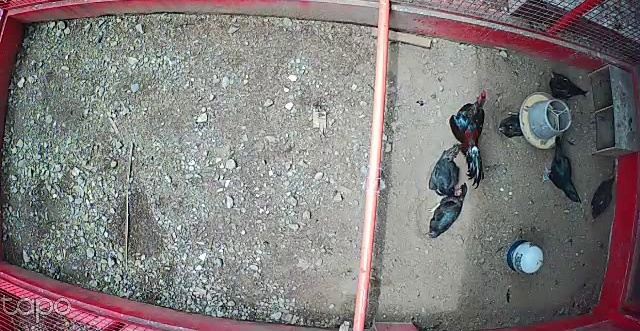Chicken: (540, 135, 583, 204), (422, 181, 468, 242), (427, 144, 464, 197), (547, 68, 588, 103), (591, 174, 618, 221), (497, 108, 528, 140)
Drinker: (507, 238, 546, 275)
Feeder: (519, 89, 573, 150)
Rooster: (447, 82, 493, 187)
